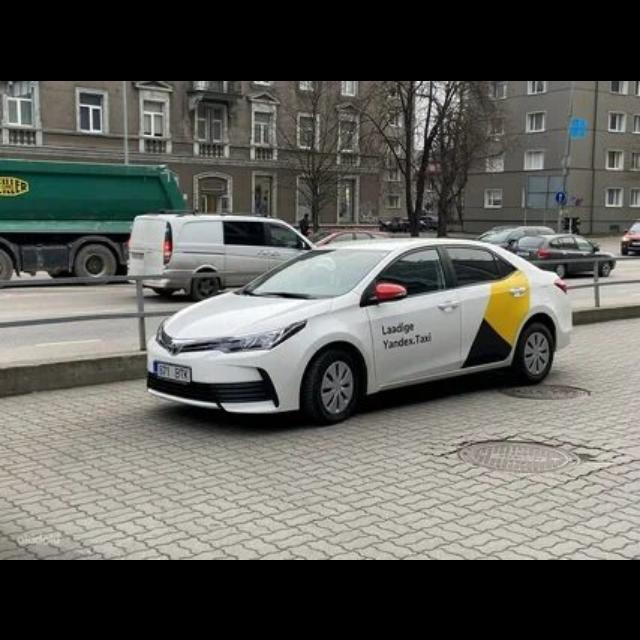taxi: (145, 236, 573, 424)
